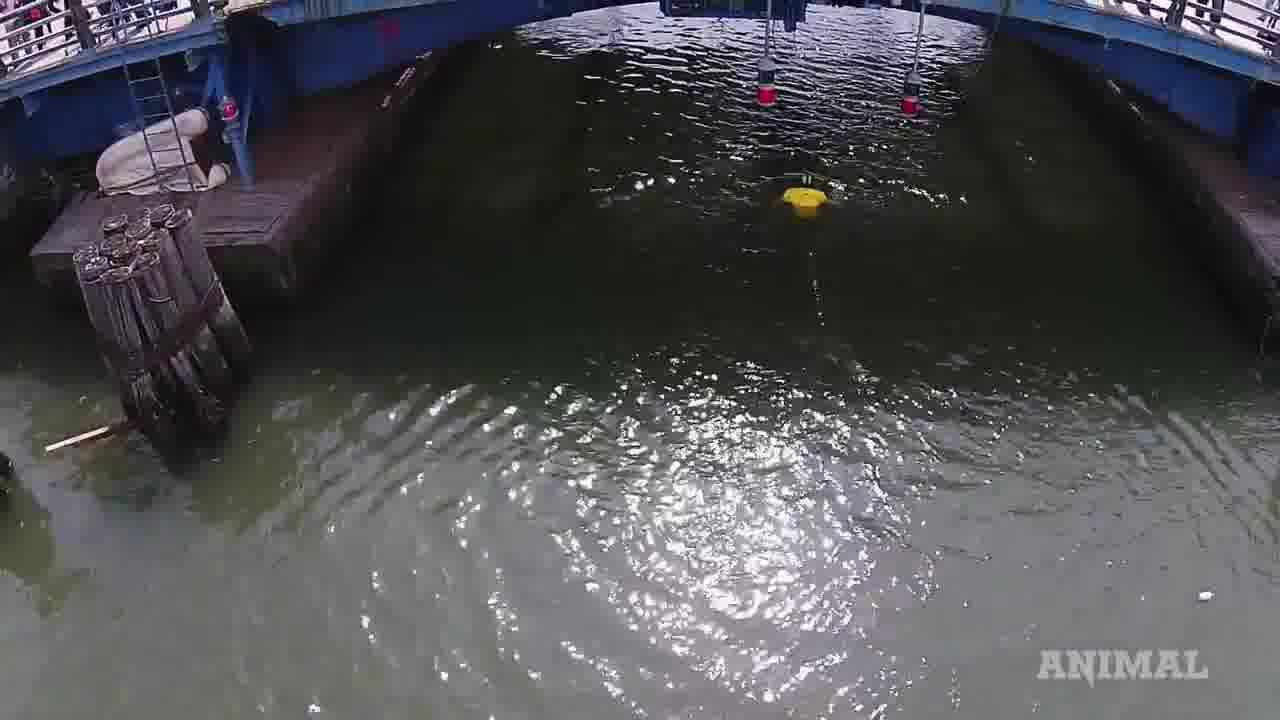swimmer: (745, 163, 840, 232)
